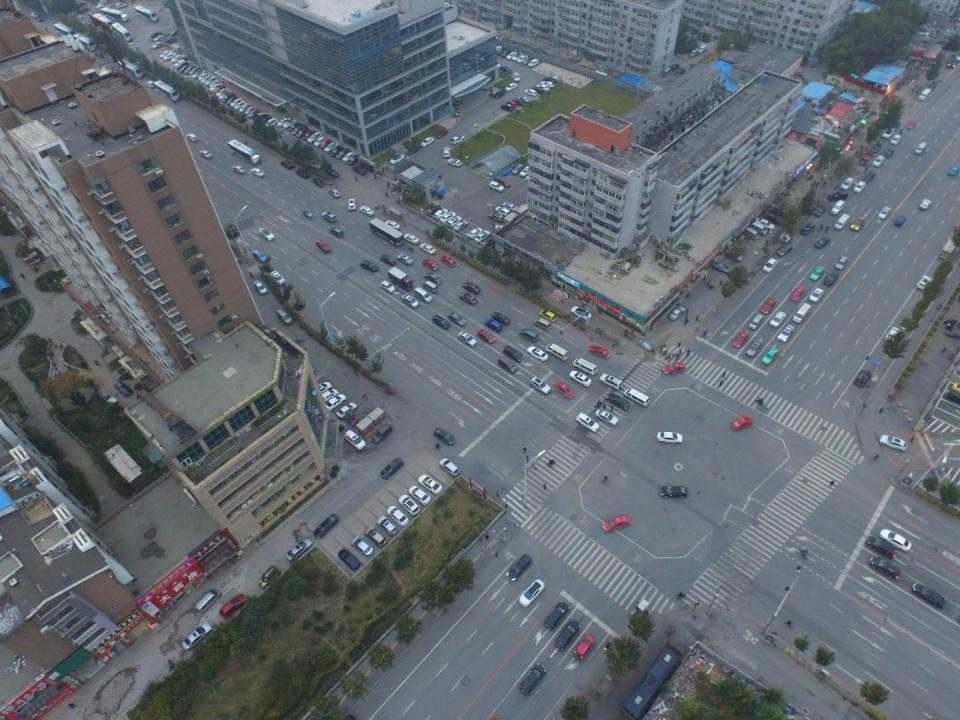bus: (368, 219, 405, 247), (226, 139, 260, 166), (154, 80, 180, 102), (116, 60, 142, 80), (100, 6, 128, 22), (113, 22, 135, 42), (133, 6, 158, 22), (92, 12, 114, 30), (53, 23, 77, 39), (73, 34, 96, 50)
car: (910, 581, 948, 609), (519, 662, 547, 697), (182, 622, 212, 650), (544, 600, 570, 630), (865, 534, 897, 558), (880, 528, 912, 552), (554, 620, 580, 649), (518, 579, 545, 606), (870, 555, 900, 579), (218, 594, 248, 618), (313, 512, 339, 538), (506, 554, 531, 580), (573, 632, 594, 662), (418, 472, 443, 496), (286, 538, 311, 562), (336, 547, 360, 571), (388, 505, 412, 528), (362, 525, 387, 547), (258, 564, 280, 589), (380, 456, 403, 479), (879, 434, 907, 452), (350, 536, 374, 557), (376, 515, 398, 537), (606, 392, 630, 412), (397, 494, 421, 514), (601, 514, 630, 530), (344, 429, 366, 450), (434, 426, 457, 446), (408, 485, 431, 505), (575, 412, 599, 431), (372, 423, 392, 444), (568, 370, 591, 388), (529, 377, 552, 394), (658, 484, 688, 497), (337, 401, 356, 421), (526, 346, 549, 362), (502, 346, 525, 362), (554, 380, 573, 399), (655, 431, 685, 443), (324, 394, 346, 410), (661, 362, 684, 377), (596, 411, 619, 426), (756, 216, 777, 232), (600, 372, 622, 387), (745, 338, 762, 357), (731, 416, 751, 432), (883, 326, 901, 343), (115, 381, 134, 397), (571, 306, 590, 322), (318, 389, 338, 404), (359, 259, 380, 273), (458, 332, 479, 346), (712, 263, 736, 275), (762, 347, 778, 365), (312, 382, 332, 396), (732, 332, 749, 348), (777, 324, 793, 341), (770, 311, 786, 328), (775, 243, 793, 258), (478, 328, 496, 343), (432, 315, 450, 330), (448, 312, 467, 326), (760, 298, 776, 314), (490, 208, 507, 223), (855, 370, 870, 387), (489, 180, 507, 194), (771, 202, 789, 216), (402, 294, 420, 308), (459, 292, 478, 305), (809, 266, 824, 282), (828, 190, 848, 202), (916, 275, 932, 290), (808, 288, 823, 304), (380, 252, 397, 266), (258, 228, 276, 241), (764, 211, 782, 224), (491, 312, 509, 325), (589, 345, 610, 356), (461, 282, 480, 294), (317, 240, 332, 255), (272, 271, 287, 286), (762, 258, 778, 272), (439, 212, 456, 225), (725, 248, 742, 261), (253, 280, 267, 295), (800, 221, 814, 236), (946, 390, 960, 405), (669, 307, 684, 321), (441, 255, 457, 268), (497, 208, 513, 221), (814, 236, 830, 249), (540, 310, 556, 323), (826, 270, 838, 287), (790, 286, 804, 300), (385, 220, 400, 233), (420, 243, 436, 255), (474, 231, 490, 243), (503, 202, 519, 214), (841, 176, 853, 192), (422, 259, 439, 270), (485, 319, 502, 330), (850, 216, 864, 229), (253, 250, 268, 262), (322, 211, 338, 222), (352, 165, 368, 176), (360, 206, 376, 217), (835, 254, 846, 270), (289, 121, 302, 134), (814, 204, 826, 218), (382, 281, 396, 293), (236, 101, 248, 114), (428, 274, 441, 286), (330, 145, 341, 159), (405, 234, 419, 245), (853, 180, 864, 194), (336, 150, 351, 160), (496, 225, 511, 235), (879, 205, 889, 220), (468, 228, 480, 240), (520, 166, 532, 178), (864, 170, 876, 182), (882, 127, 894, 139), (281, 160, 294, 171), (347, 198, 358, 211), (220, 93, 233, 104), (290, 126, 303, 137), (399, 254, 412, 265), (262, 117, 276, 127), (390, 154, 404, 164), (497, 178, 512, 187), (518, 96, 533, 105), (199, 149, 211, 160), (221, 90, 232, 102), (512, 163, 523, 175), (781, 230, 792, 242), (252, 167, 265, 177), (296, 169, 309, 179), (243, 106, 256, 116), (448, 217, 461, 227), (894, 216, 907, 226), (197, 73, 208, 84), (248, 110, 259, 121), (301, 130, 312, 141), (320, 139, 331, 150), (437, 128, 448, 139), (919, 199, 930, 210), (329, 187, 341, 197), (204, 76, 214, 88), (315, 136, 325, 148), (450, 135, 465, 143), (448, 158, 463, 166), (435, 207, 445, 219), (541, 80, 556, 88), (890, 134, 900, 146), (423, 206, 440, 213), (77, 6, 90, 15), (232, 166, 245, 175), (327, 168, 340, 177), (421, 138, 434, 147), (314, 177, 324, 188), (309, 132, 319, 143), (948, 165, 958, 176), (862, 149, 872, 160), (212, 76, 221, 88), (282, 120, 294, 129), (408, 145, 420, 154), (874, 155, 883, 167), (454, 221, 467, 229), (326, 142, 336, 152), (494, 89, 504, 99), (175, 58, 186, 67), (180, 64, 189, 75), (230, 97, 241, 106), (501, 67, 512, 76), (186, 134, 198, 142), (170, 55, 182, 63), (226, 98, 238, 106), (311, 160, 323, 168), (532, 87, 544, 95), (868, 144, 880, 152), (164, 53, 174, 62), (506, 83, 516, 92), (298, 128, 306, 139), (539, 84, 550, 92), (883, 148, 894, 156), (150, 31, 162, 38), (235, 102, 247, 109), (524, 89, 536, 96), (190, 72, 200, 80), (209, 84, 219, 92), (217, 86, 225, 96), (892, 121, 900, 131), (277, 118, 288, 125), (529, 60, 540, 67), (544, 77, 555, 84), (512, 54, 523, 61), (153, 41, 162, 49), (344, 152, 353, 160), (348, 156, 357, 164), (497, 48, 506, 56), (948, 60, 957, 68), (928, 81, 936, 90), (145, 81, 155, 88), (444, 147, 451, 157), (517, 55, 527, 62), (89, 54, 95, 65), (184, 66, 192, 74), (691, 28, 699, 36), (907, 120, 915, 128), (508, 102, 517, 109), (514, 99, 524, 105), (162, 50, 169, 58), (671, 63, 679, 70), (95, 52, 104, 58), (506, 52, 516, 57), (170, 29, 177, 36), (30, 11, 38, 17), (98, 0, 106, 6), (166, 36, 174, 42), (156, 34, 163, 40), (524, 57, 530, 64), (502, 50, 509, 56), (493, 46, 500, 52), (191, 66, 196, 74), (822, 70, 826, 78), (36, 18, 42, 21)
truck: (619, 643, 681, 719), (387, 266, 413, 288)
van: (937, 226, 958, 262), (194, 588, 222, 615), (624, 388, 650, 407), (574, 357, 597, 376), (545, 342, 569, 360), (792, 302, 810, 324), (439, 457, 459, 476), (276, 306, 294, 326), (497, 357, 516, 375), (414, 286, 432, 304), (519, 327, 539, 343), (743, 226, 762, 241), (748, 313, 765, 329), (752, 220, 768, 236), (533, 317, 551, 330), (422, 279, 439, 292), (830, 199, 844, 214), (835, 213, 848, 229), (918, 86, 931, 102), (914, 141, 928, 155), (328, 227, 345, 238), (660, 68, 671, 79), (67, 12, 80, 20), (690, 46, 699, 57), (503, 103, 512, 113), (675, 68, 684, 78), (698, 36, 710, 43), (95, 4, 104, 13), (699, 44, 706, 54), (514, 72, 520, 82), (117, 2, 126, 8)
